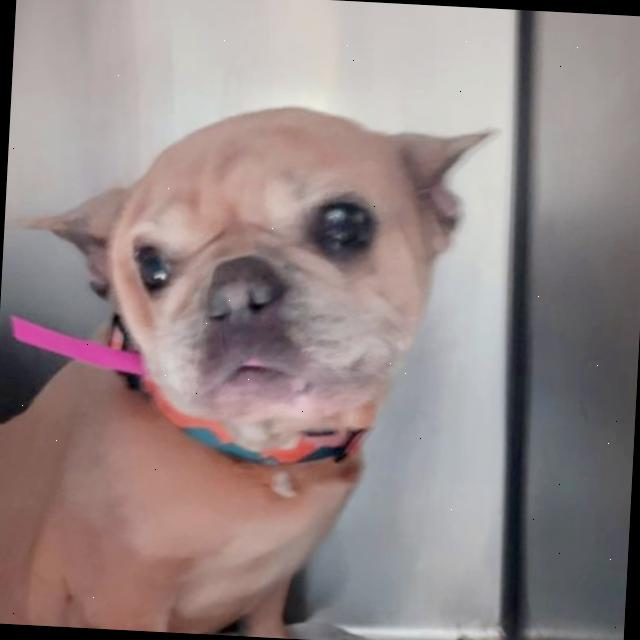french_bulldog_dog: (2, 78, 516, 480)
